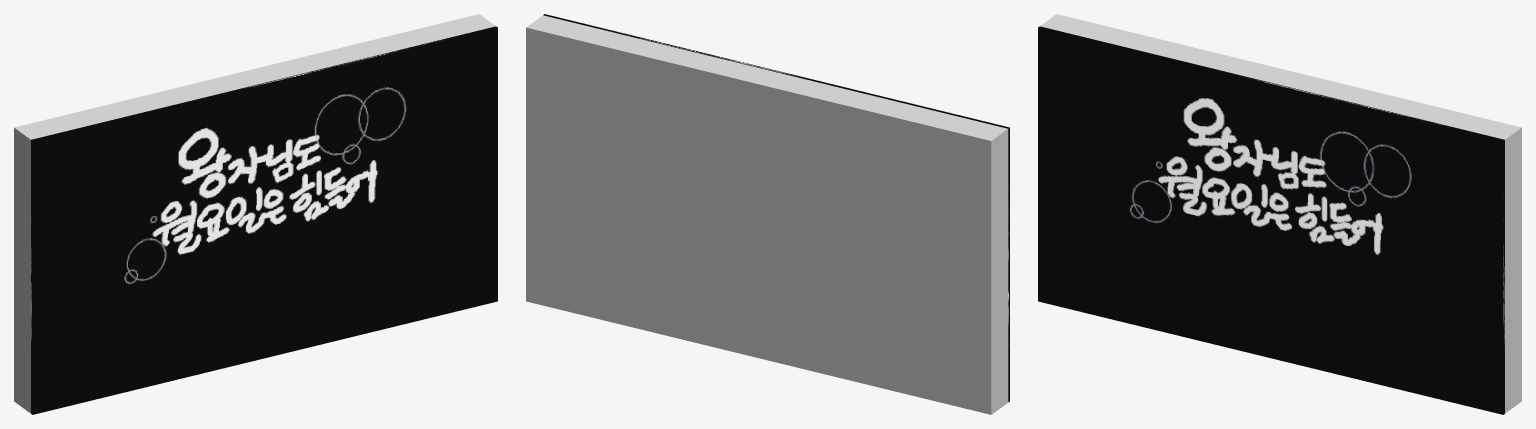
The model's file is LEDScreen.glb.
3 views of the same model, side by side, from view 1: azimuth 30°, elevation 25°; view 2: azimuth 150°, elevation 25°; view 3: azimuth 330°, elevation 25° (orthographic).
Parts seen in each view (by area): view 1: LEDScreen, LEDScreenDepth; view 2: LEDScreenDepth, LEDScreen; view 3: LEDScreen, LEDScreenDepth.
Boxes of the visible parts, box(x1,y1,x2,y2) form: LEDScreen: box(31, 26, 497, 414); LEDScreenDepth: box(14, 14, 495, 413); LEDScreenDepth: box(526, 15, 1008, 414); LEDScreen: box(543, 14, 1009, 402); LEDScreen: box(1038, 26, 1504, 414); LEDScreenDepth: box(1040, 14, 1521, 413).
Size of the model in its own units: 32 by 18 by 2.21.
1 material, 1 textured.
